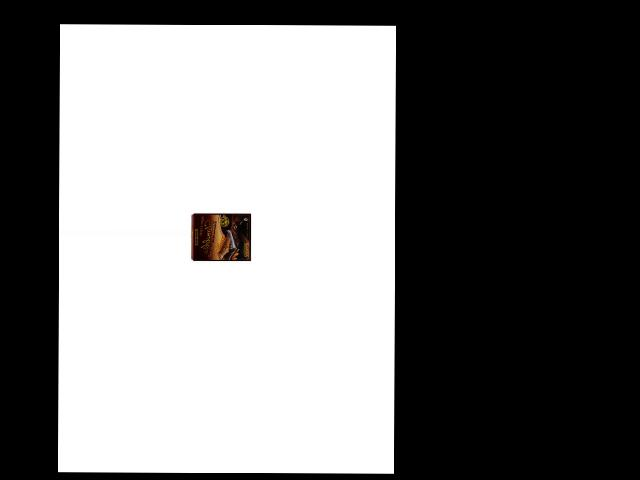chocolate: (191, 213, 251, 260)
